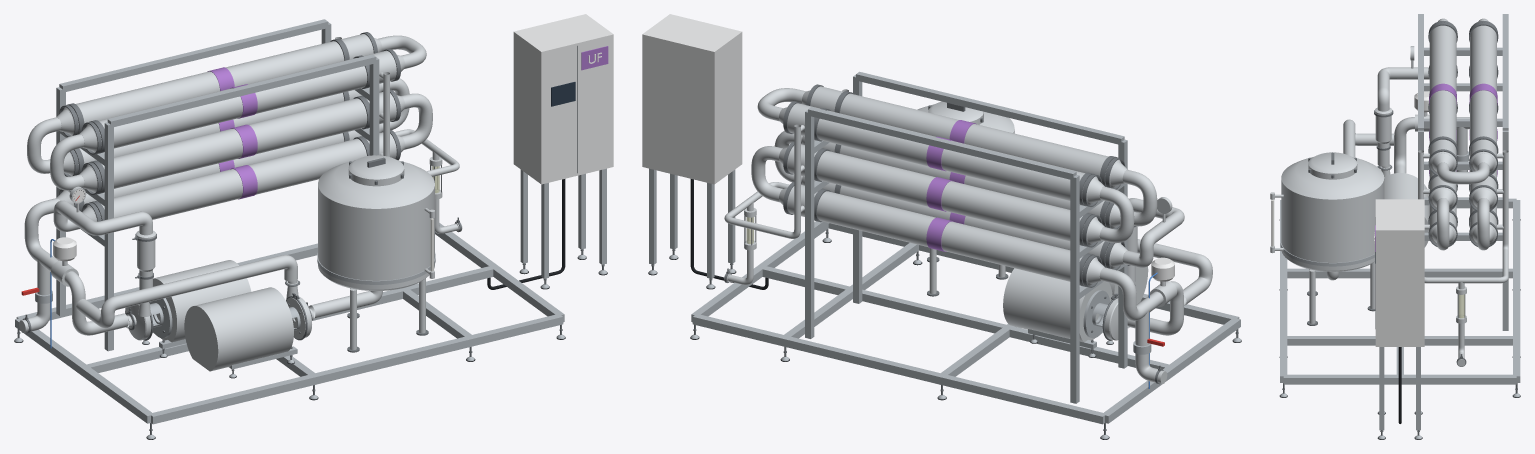
The model's file is membrananlage_uf.glb.
The picture shows the model from 3 angles, left to right: view 1: azimuth 30°, elevation 25°; view 2: azimuth 150°, elevation 25°; view 3: azimuth 270°, elevation 25°; orthographic projection. The views are drawn at different scales.
Visible parts, largest first — view 1: schrank, tankmantel, modulgehaeuse_1, modulgehaeuse_0, sp_verkleidung, modulgehaeuse_5, modulgehaeuse_2, laengstraeger_-0.95, speiseleitung, gestell_oben_0.86, gestell_oben_0.17, zp_verkleidung (+27 smaller); view 2: schrank, modulgehaeuse_3, modulgehaeuse_4, modulgehaeuse_2, modulgehaeuse_5, laengstraeger_0.95, zp_verkleidung, laengstraeger_0, gestell_oben_0.86, gestell_oben_0.17, modulgehaeuse_0, modulgehaeuse_1 (+24 smaller); view 3: tankmantel, schrank, modulgehaeuse_2, modulgehaeuse_5, quertraeger_3, quertraeger_2, quertraeger_1, laengstraeger_0.95, permeatsammler_0.68, mannloch, laengstraeger_-0.95, zp_verkleidung (+23 smaller).
Boxes of the visible parts, bbox=[...] form: schrank: bbox=[513, 14, 613, 184]; tankmantel: bbox=[318, 160, 434, 290]; modulgehaeuse_1: bbox=[86, 92, 396, 192]; modulgehaeuse_0: bbox=[86, 132, 396, 221]; sp_verkleidung: bbox=[184, 287, 293, 371]; modulgehaeuse_5: bbox=[63, 34, 373, 135]; modulgehaeuse_2: bbox=[86, 50, 396, 152]; laengstraeger_-0.95: bbox=[149, 314, 563, 424]; speiseleitung: bbox=[76, 255, 297, 328]; gestell_oben_0.86: bbox=[59, 19, 328, 92]; gestell_oben_0.17: bbox=[107, 54, 376, 127]; zp_verkleidung: bbox=[152, 260, 251, 342]; schrank: bbox=[642, 14, 742, 184]; modulgehaeuse_3: bbox=[787, 184, 1097, 285]; modulgehaeuse_4: bbox=[787, 144, 1097, 245]; modulgehaeuse_2: bbox=[810, 86, 1120, 188]; modulgehaeuse_5: bbox=[787, 103, 1098, 205]; laengstraeger_0.95: bbox=[692, 314, 1106, 424]; zp_verkleidung: bbox=[1003, 268, 1112, 342]; laengstraeger_0: bbox=[759, 265, 1172, 369]; gestell_oben_0.86: bbox=[808, 107, 1076, 180]; gestell_oben_0.17: bbox=[856, 71, 1124, 144]; modulgehaeuse_0: bbox=[814, 180, 1121, 268]; modulgehaeuse_1: bbox=[814, 140, 1115, 228]; tankmantel: bbox=[1281, 157, 1384, 271]; schrank: bbox=[1375, 199, 1424, 346]; modulgehaeuse_2: bbox=[1429, 25, 1456, 173]; modulgehaeuse_5: bbox=[1470, 25, 1496, 173]; quertraeger_3: bbox=[1283, 374, 1516, 384]; quertraeger_2: bbox=[1283, 336, 1516, 345]; quertraeger_1: bbox=[1285, 268, 1516, 278]; laengstraeger_0.95: bbox=[1513, 200, 1520, 382]; permeatsammler_0.68: bbox=[1461, 150, 1508, 283]; mannloch: bbox=[1308, 152, 1357, 179]; laengstraeger_-0.95: bbox=[1280, 200, 1287, 382]; zp_verkleidung: bbox=[1384, 173, 1429, 247].
Bounding box in the file's own units: 4.5 × 2 × 2.04.
